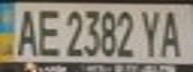2: (60, 6, 84, 57), (115, 7, 139, 58)
3: (81, 6, 100, 57)
8: (100, 7, 121, 58)
A: (9, 5, 39, 57), (157, 7, 187, 58)
E: (33, 5, 63, 57)
Y: (136, 6, 166, 58)
